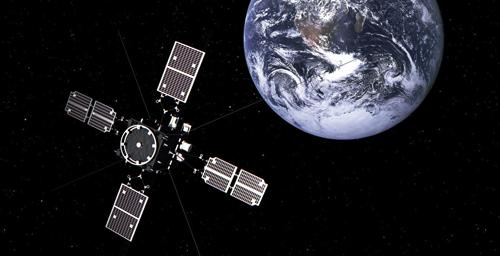antenna: (178, 50, 373, 137), (116, 27, 154, 121), (164, 167, 203, 256), (50, 155, 126, 193)
body: (113, 115, 195, 177)
solar: (200, 155, 272, 209), (155, 39, 207, 105), (103, 181, 150, 244), (63, 89, 118, 134)
